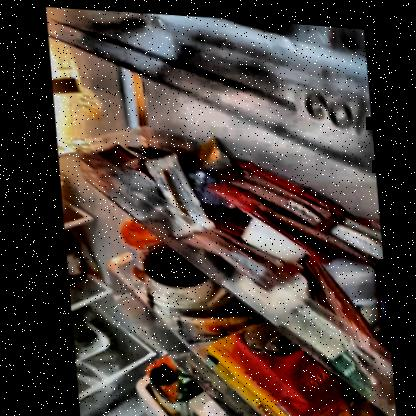butter: (201, 339, 323, 415)
milk: (181, 388, 234, 415)
